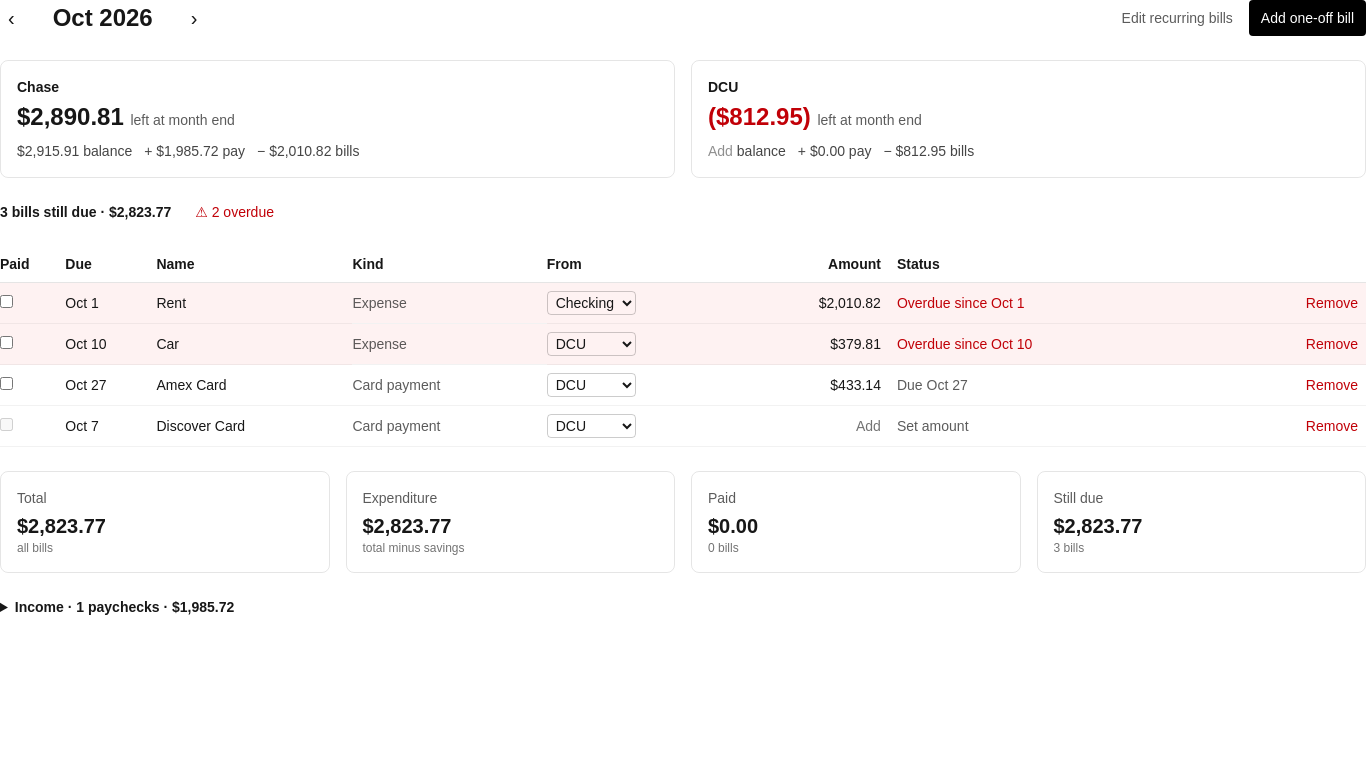
it: BillsPage › adding a one-off bill posts it as pending
Step 1. Click the button "Add one-off bill" → (1307, 18), box 1249,0 -> 1365,36
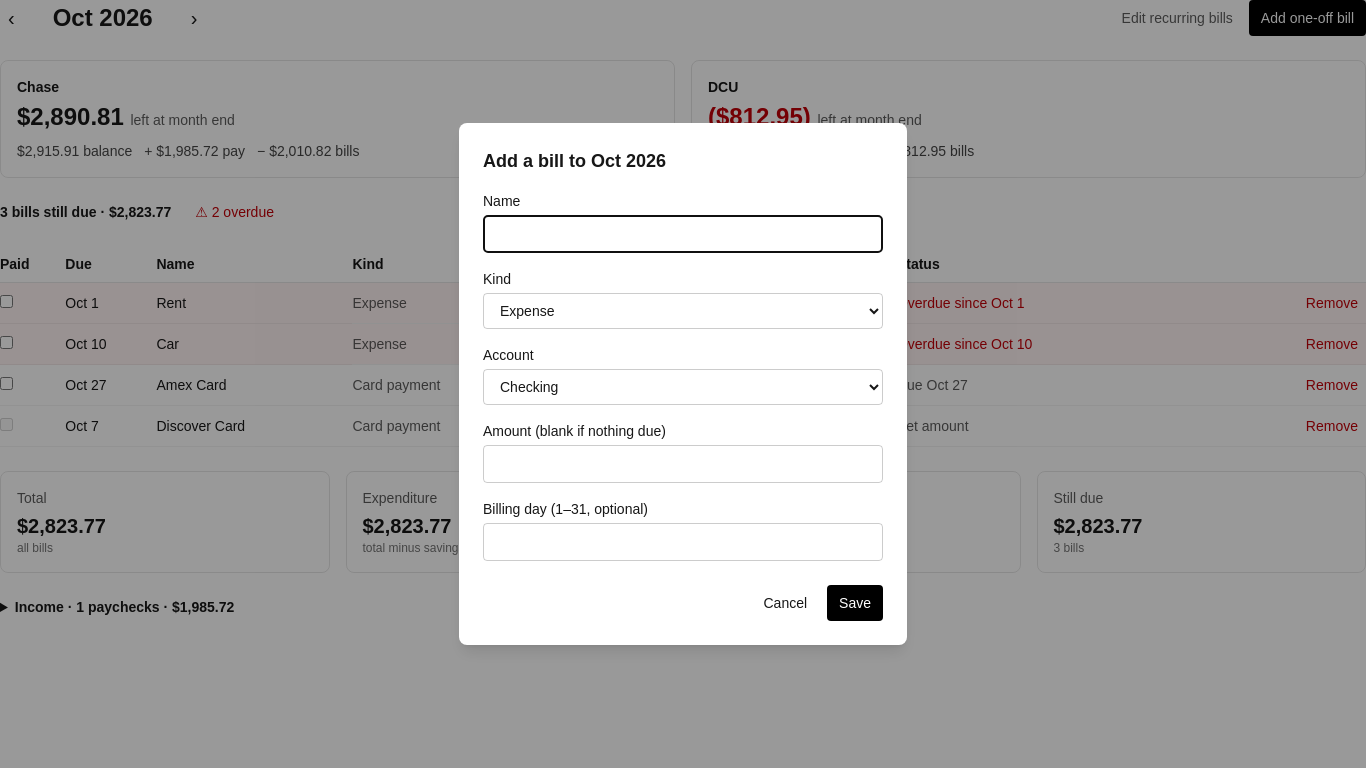
Step 2. Type "Car repair" into the field labelled "Name" → (683, 234), box 483,215 -> 883,253
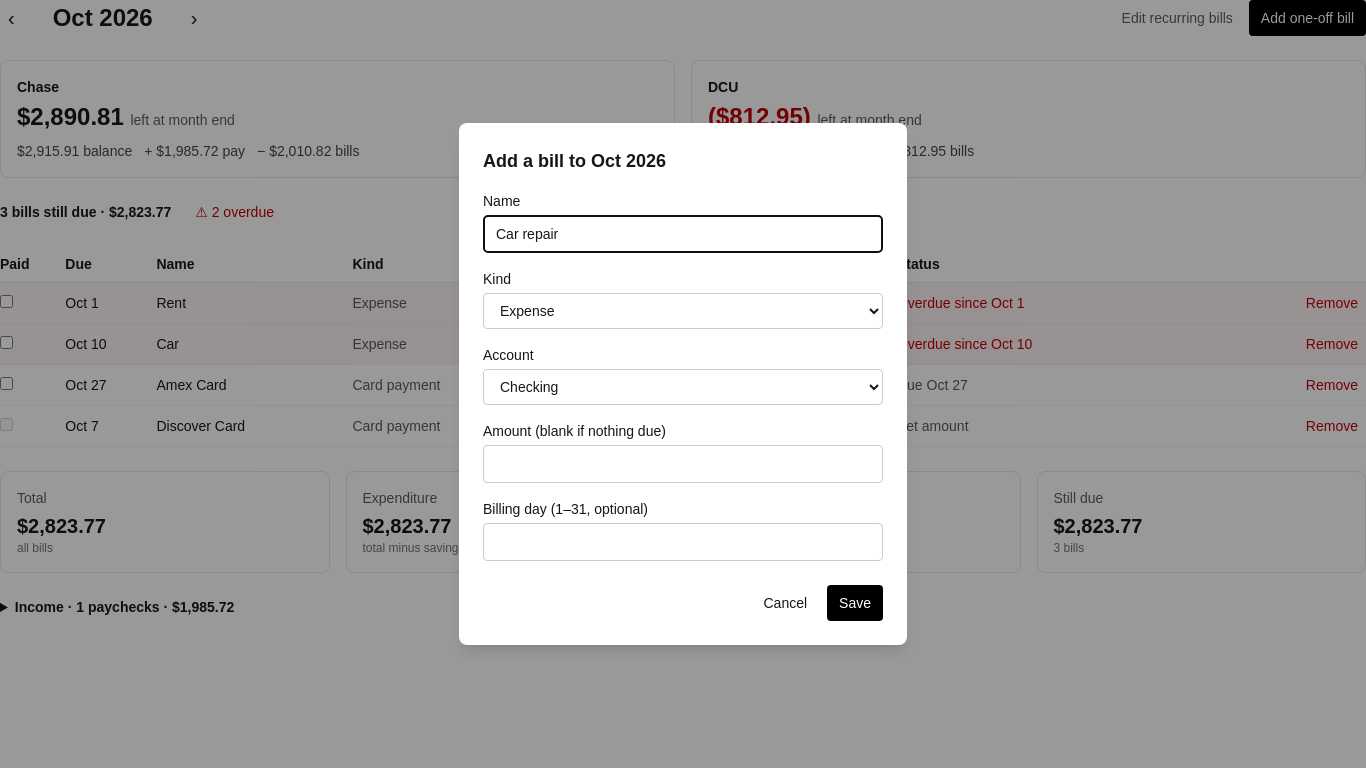
Step 3. Type "120" into the number field labelled "Amount (blank if nothing due)" → (683, 464), box 483,445 -> 883,483
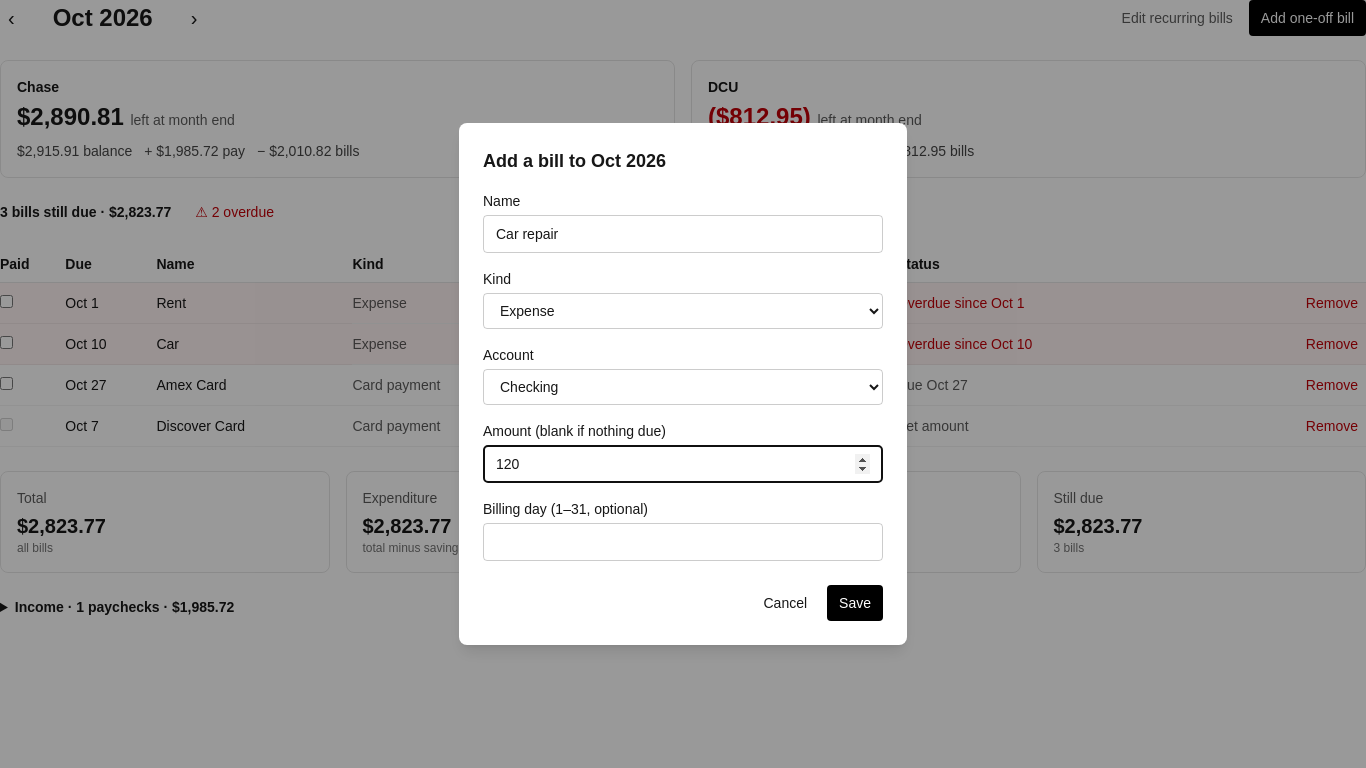
Step 4. Click the button "Save" → (855, 603), box 827,585 -> 883,621
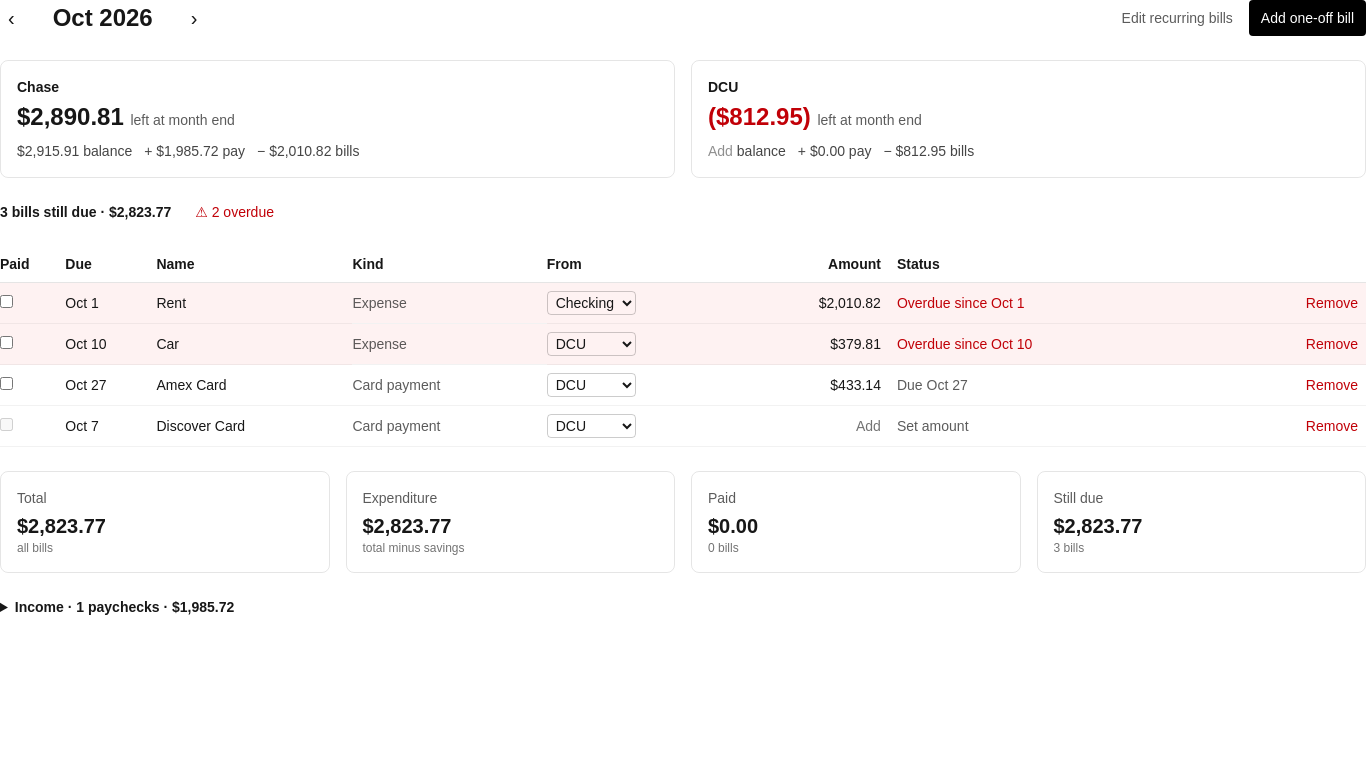
Now the dialog is gone
